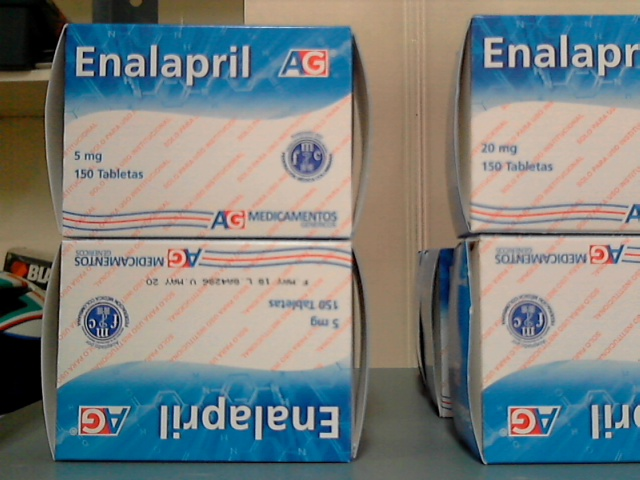AG: (63, 242, 351, 462), (66, 25, 351, 236)
